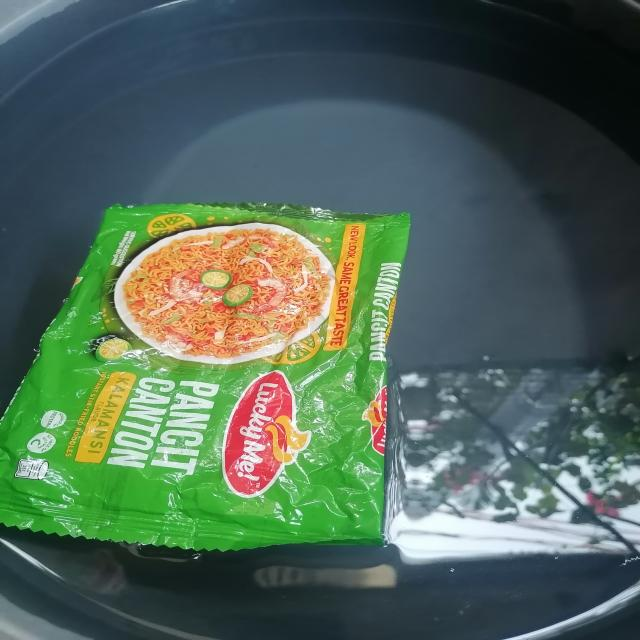Plastic Wrapper: (0, 181, 467, 576)
